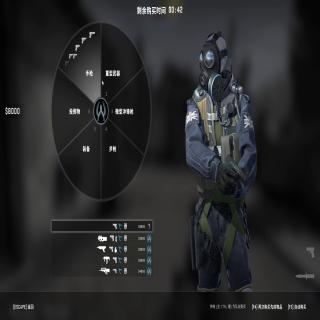CT-Body: (184, 29, 258, 293)
CT-Head: (197, 30, 229, 90)
